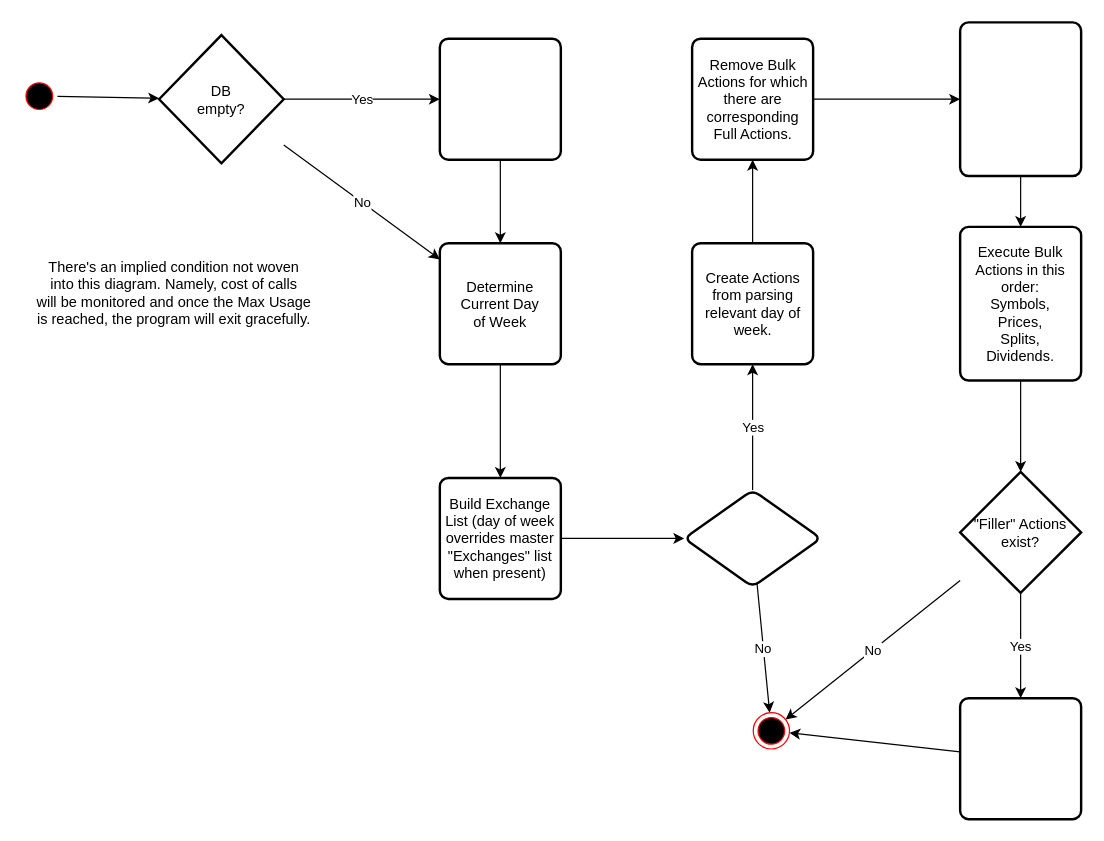
Some shapes in this 1104 by 841 pixel diagram are drawn without their labels. The centre of each missing label's shape, as x and y in pixels:
Any exchanges?: the point at 752,537
Create Actions from parsing "On Empty Database": the point at 499,98
Create and execute Filler tasks until Max Usage is met or work is complete.: the point at 1020,758
Execute Full Actions in this order: Symbols, Prices, Splits, Dividends.: the point at 1020,99
